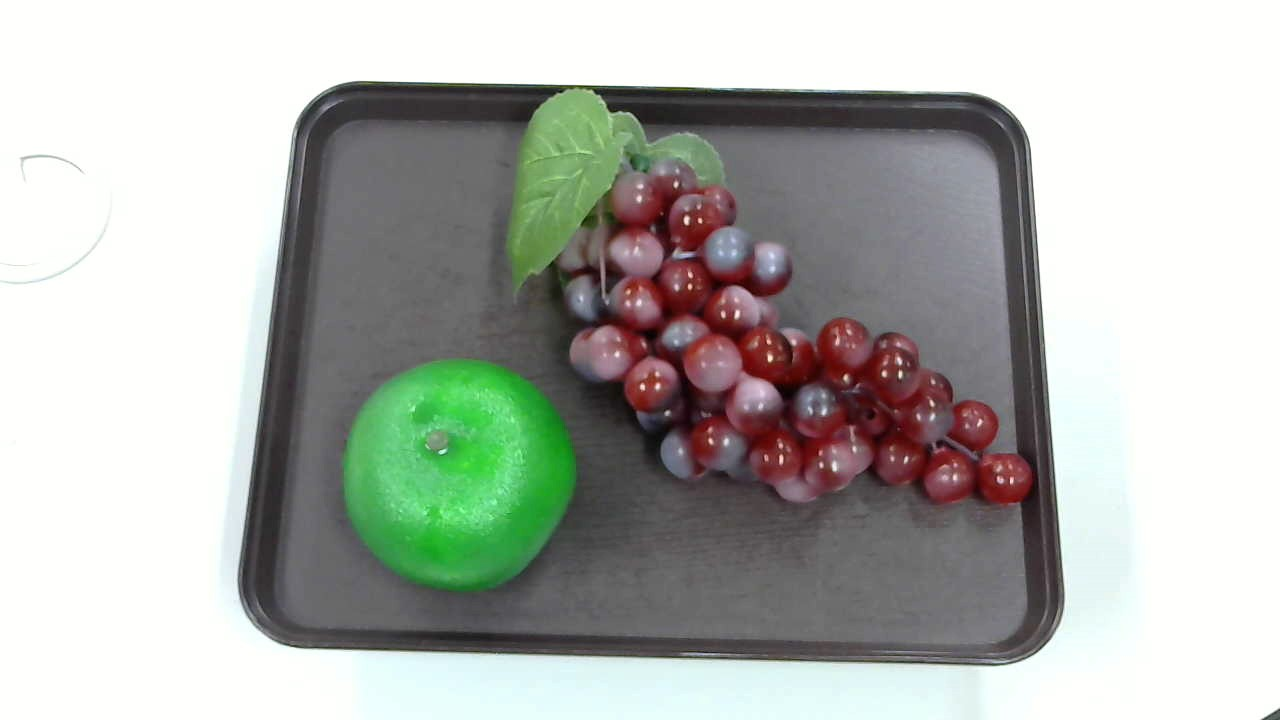grape: (508, 78, 1035, 517)
green orange: (335, 361, 579, 586)
